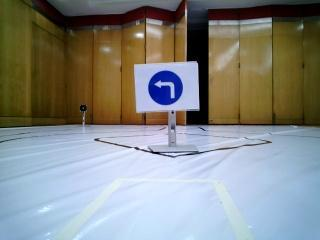left: (136, 66, 197, 110)
